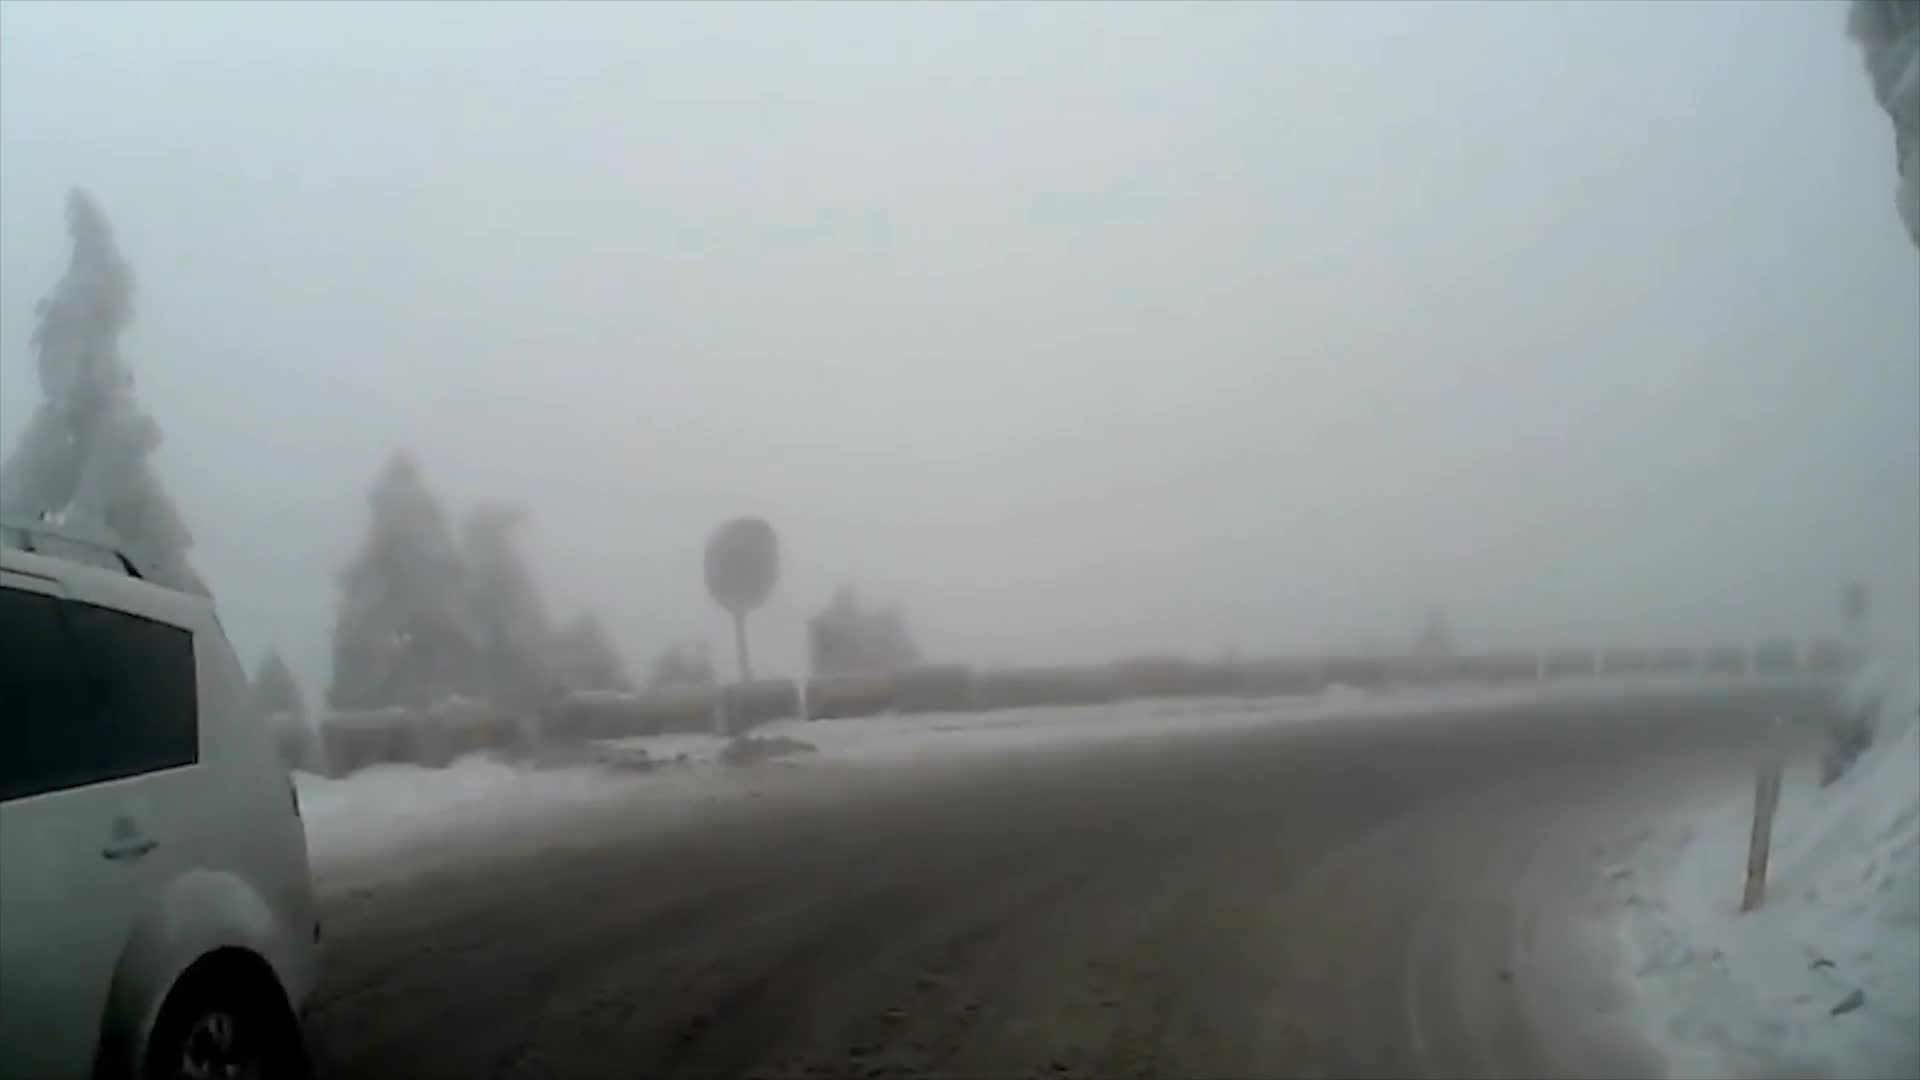vehicle: (0, 525, 323, 1080)
